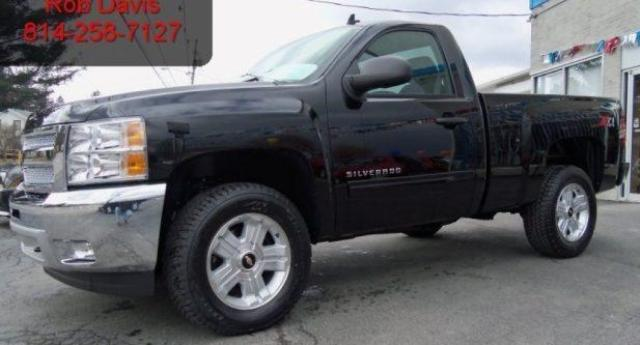pickup-truck: (6, 19, 630, 336)
